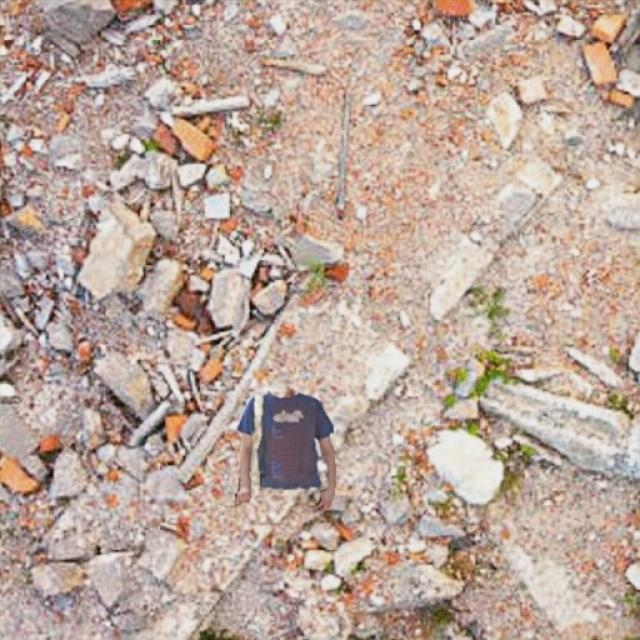Person in Rubble: (235, 391, 335, 510)
